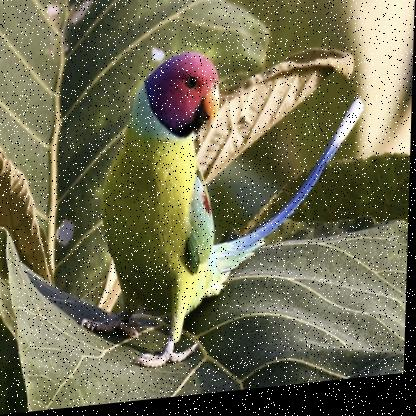Burung: (83, 40, 368, 376)
